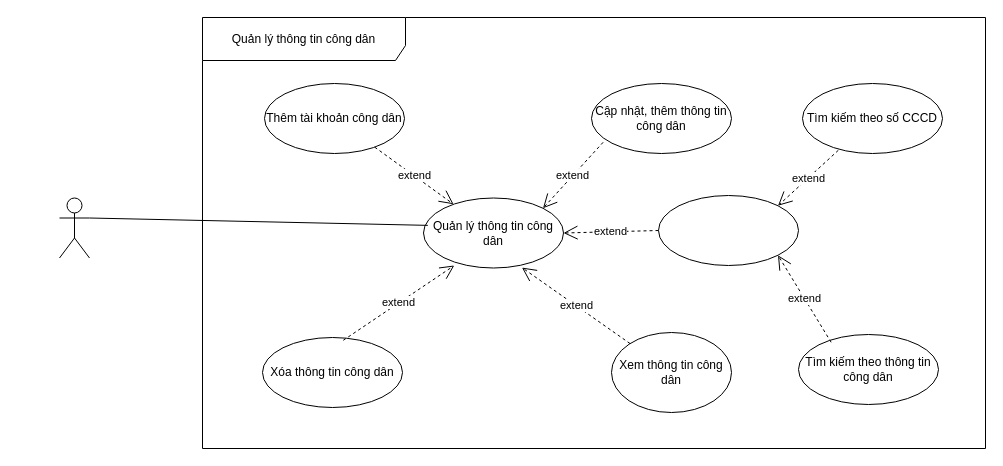
Some shapes in this 1003 by 466 pixel diagram are drawn without their labels. Here are the shapes that lost their labels. From the top down, the centre of each, then its label:
At pixel 74 227: "Cơ quan chính quyền".
At pixel 728 230: "Tìm kiếm, tra cứu thông tin".
